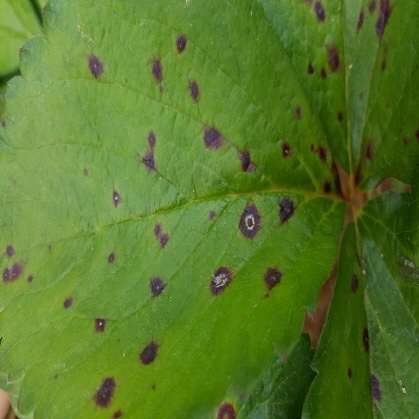Leaf_Spot: (0, 0, 346, 418), (254, 191, 418, 418), (300, 0, 418, 227)
